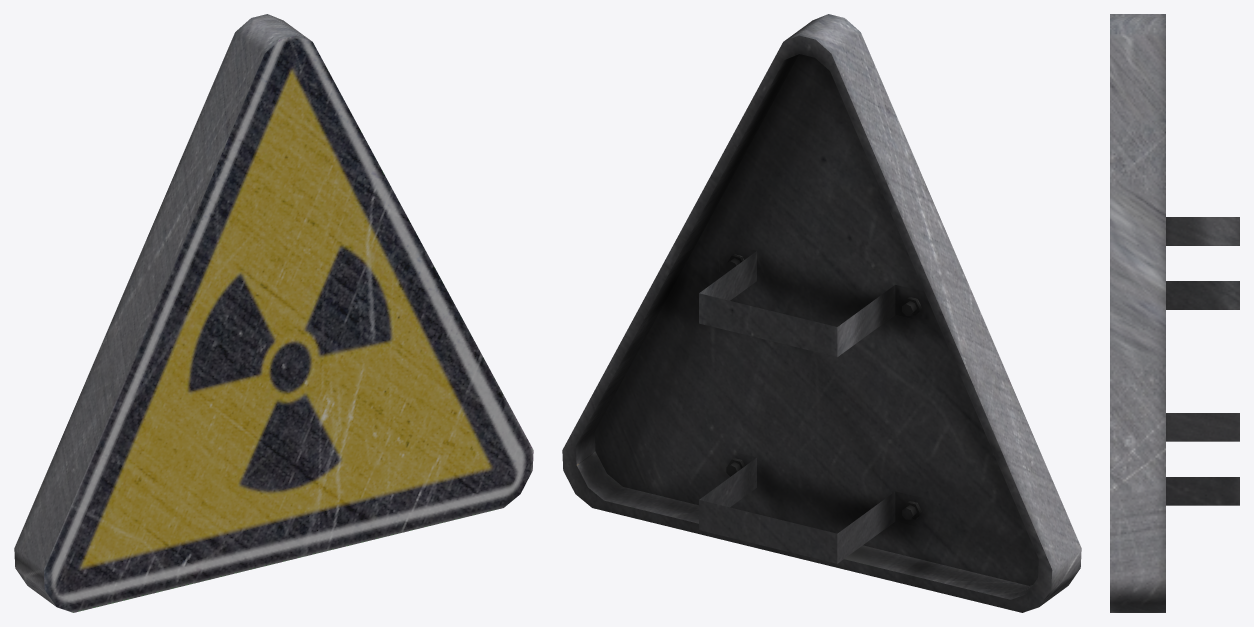
The model's file is export3dcoat.obj.
3 renders of one model, left to right at view 1: azimuth 30°, elevation 25°; view 2: azimuth 150°, elevation 25°; view 3: azimuth 270°, elevation 25°, orthographic. The views are drawn at different scales.
Parts seen in each view (by area): view 1: PanneauTri; view 2: PanneauTri; view 3: PanneauTri.
Boxes of the visible parts, x1,y1,x2,y2 form: PanneauTri: (14,14,533,612); PanneauTri: (562,14,1081,612); PanneauTri: (1110,14,1239,612).
Bounding box in the file's own units: 71.24 × 72.67 × 17.24.
Materials: 1 (1 with a texture image).
